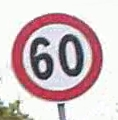limite 60: (9, 10, 102, 102)
